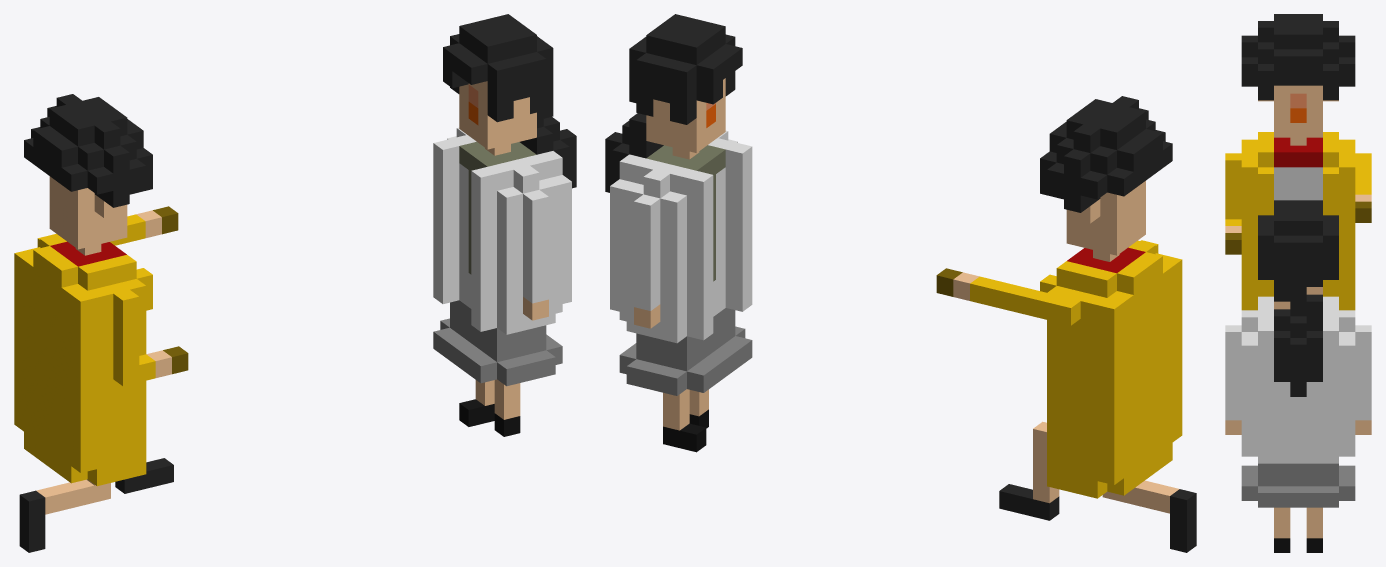
The model's file is love.obj.
3 renders of one model, left to right at view 1: azimuth 30°, elevation 25°; view 2: azimuth 150°, elevation 25°; view 3: azimuth 270°, elevation 25°, orthographic. The views are drawn at different scales.
Parts seen in each view (by area): view 1: 大衣; view 2: 大衣; view 3: 大衣.
Boxes of the visible parts, x1,y1,x2,y2 form: 大衣: [14, 14, 576, 552]; 大衣: [605, 14, 1196, 552]; 大衣: [1225, 14, 1371, 552].
Bounding box in the file's own units: 3.4 × 2.4 × 0.9.
1 material, 1 textured.
